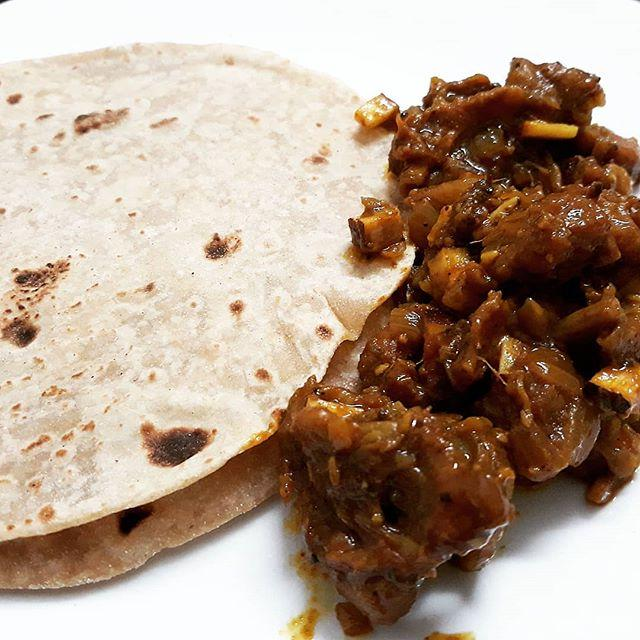Roti: (0, 50, 403, 590)
